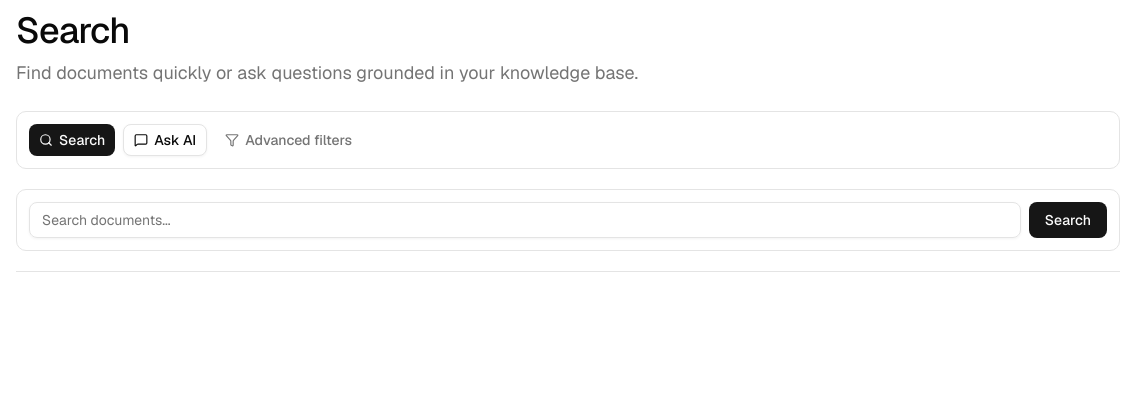
Test case: Search Behavior › should perform semantic search and display results
Step 1. Type "test query" into the field with test id "search-input" → {"x": 525, "y": 220}, box [29, 202, 1021, 238]
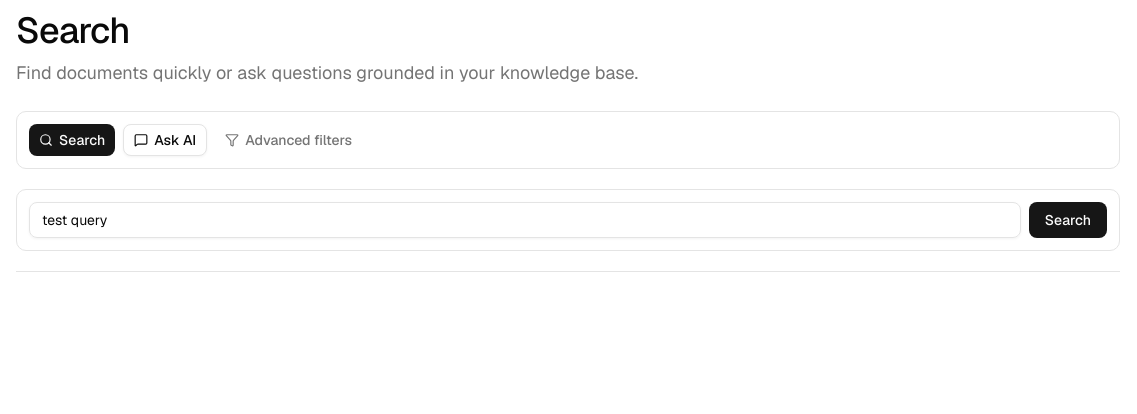
Step 2. Click the button with test id "search-submit" → {"x": 1068, "y": 220}, box [1029, 202, 1107, 238]
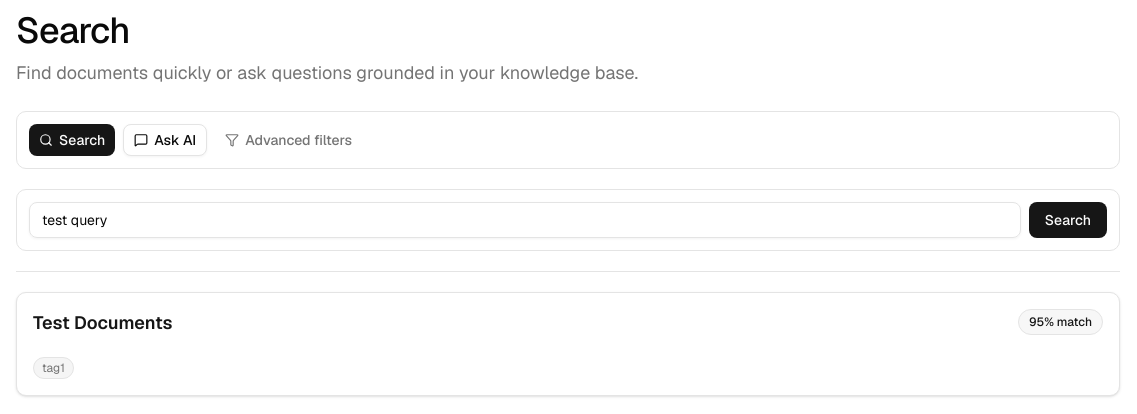
Check: the element with test id "search-results" is shown, box [16, 292, 1120, 396]
Check: the heading "Test Documents" is shown, box [33, 309, 172, 337]
Check: the text "95% match" is shown, box [1018, 309, 1103, 335]
